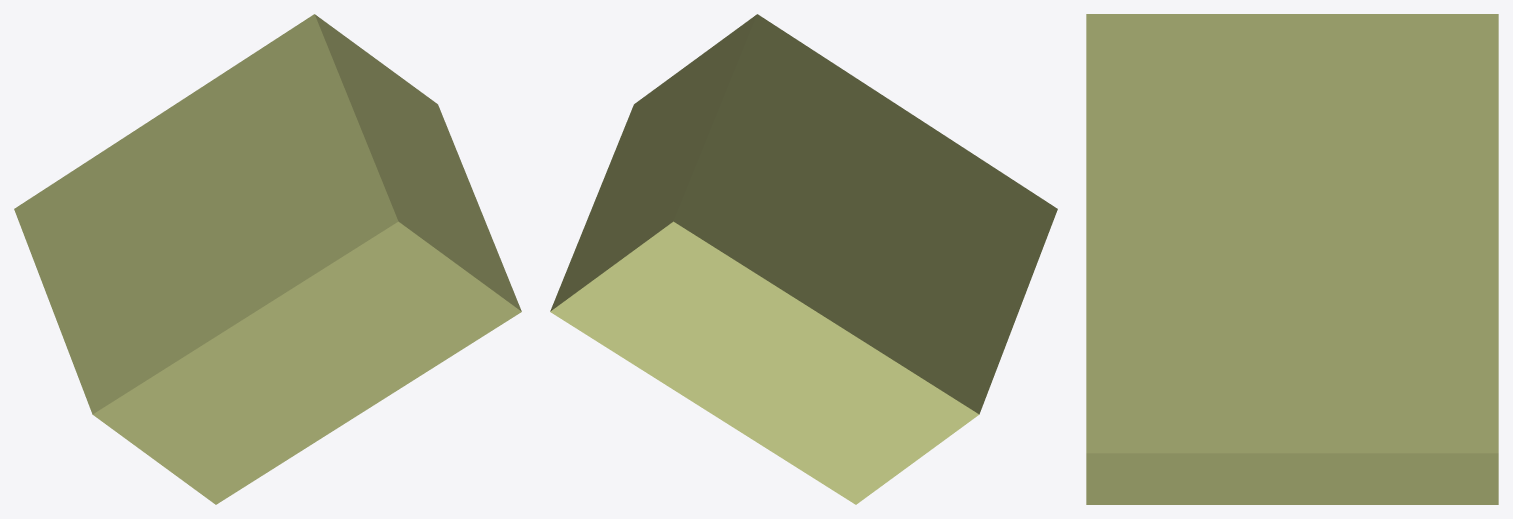
The picture shows the model from 3 angles, left to right: view 1: azimuth 30°, elevation 25°; view 2: azimuth 150°, elevation 25°; view 3: azimuth 270°, elevation 25°; orthographic projection. The views are drawn at different scales.
Visible parts, largest first — view 1: 0_1_1_3_3_0_3_0_3_2; view 2: 0_1_1_3_3_0_3_0_3_2; view 3: 0_1_1_3_3_0_3_0_3_2.
Boxes of the visible parts, box(x1,y1,x2,y2) form: 0_1_1_3_3_0_3_0_3_2: box(14, 14, 521, 504); 0_1_1_3_3_0_3_0_3_2: box(550, 14, 1057, 504); 0_1_1_3_3_0_3_0_3_2: box(1086, 14, 1498, 504).
Bounding box in the file's own units: 16.18 × 13.93 × 9.
